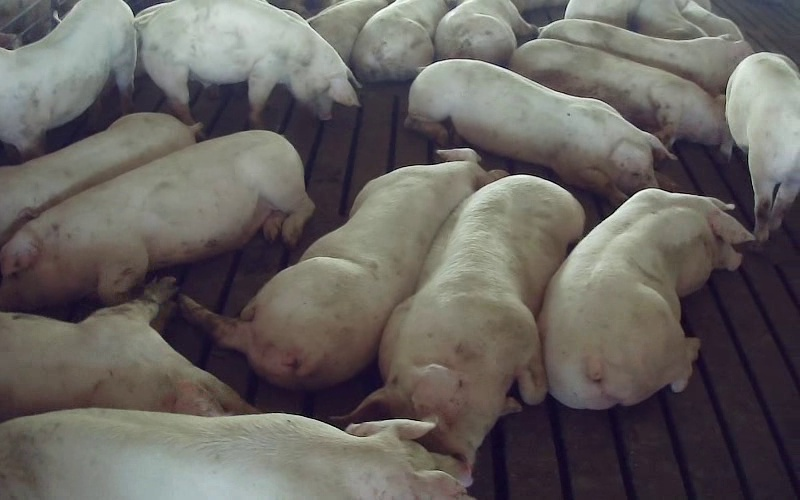pig: (179, 149, 503, 388), (351, 175, 584, 468), (0, 132, 313, 310), (539, 189, 753, 409), (406, 60, 676, 204), (0, 277, 255, 420), (135, 0, 358, 127), (0, 114, 199, 246), (509, 39, 731, 156), (539, 19, 752, 95), (726, 52, 799, 241), (434, 0, 537, 66)
